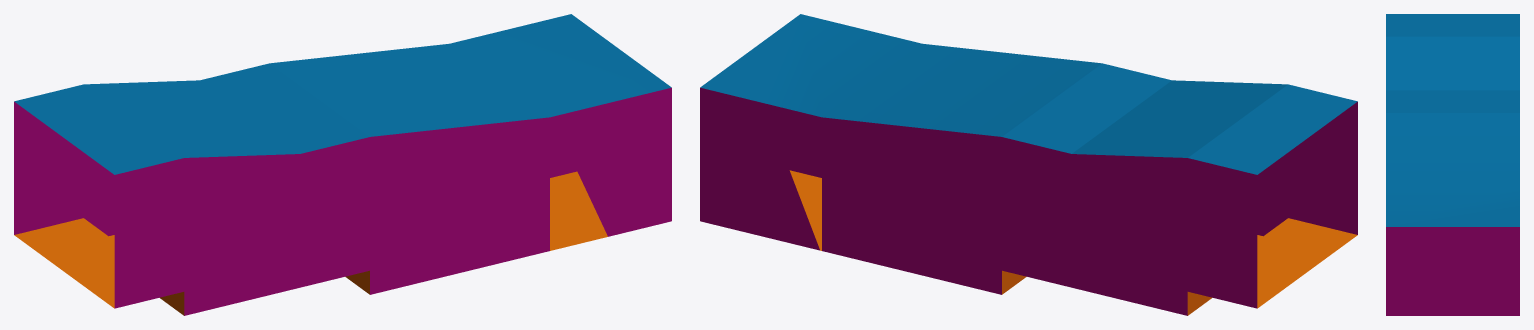
The model's file is Corridor_Lifts_v1.0.fbx.
3 renders of one model, left to right at view 1: azimuth 30°, elevation 25°; view 2: azimuth 150°, elevation 25°; view 3: azimuth 270°, elevation 25°, orthographic. The views are drawn at different scales.
Parts seen in each view (by area): view 1: polySurface2824; view 2: polySurface2824; view 3: polySurface2824.
Part boxes in pixels (x1,y1,x2,y2): polySurface2824: (14,14,671,315); polySurface2824: (700,14,1357,315); polySurface2824: (1386,14,1519,315).
Size of the model in its own units: 2400 by 750 by 750.
